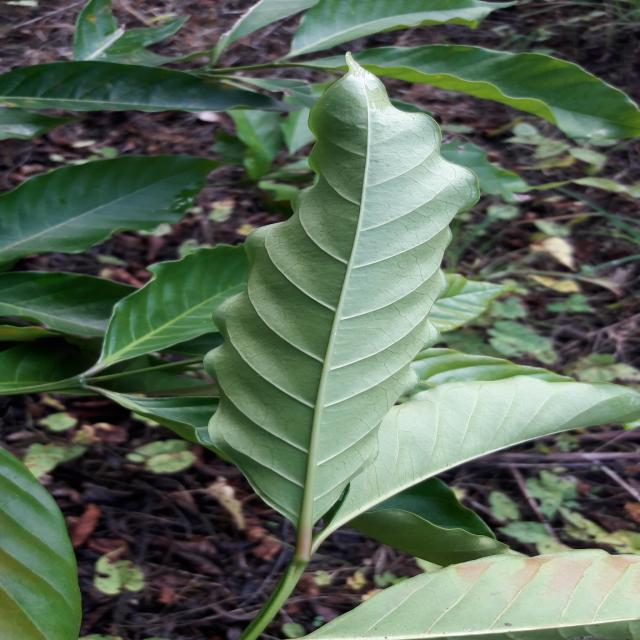Sanas: (202, 64, 482, 640)
